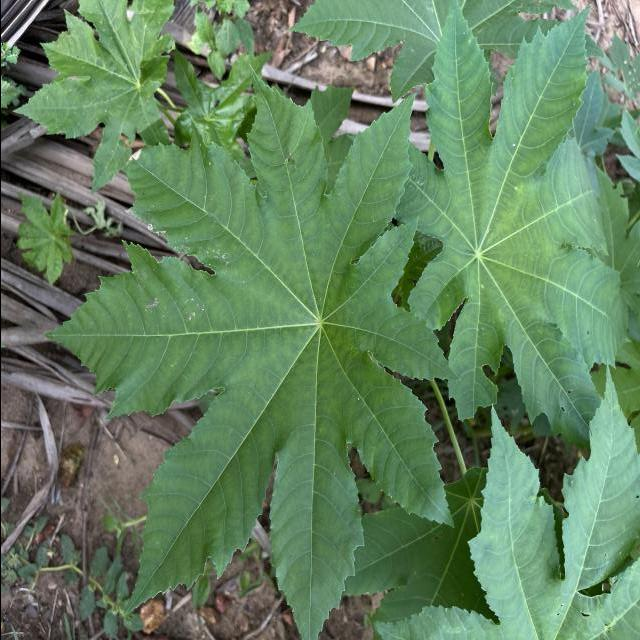Ricinus communis linn: (39, 60, 464, 640), (390, 0, 634, 453)
